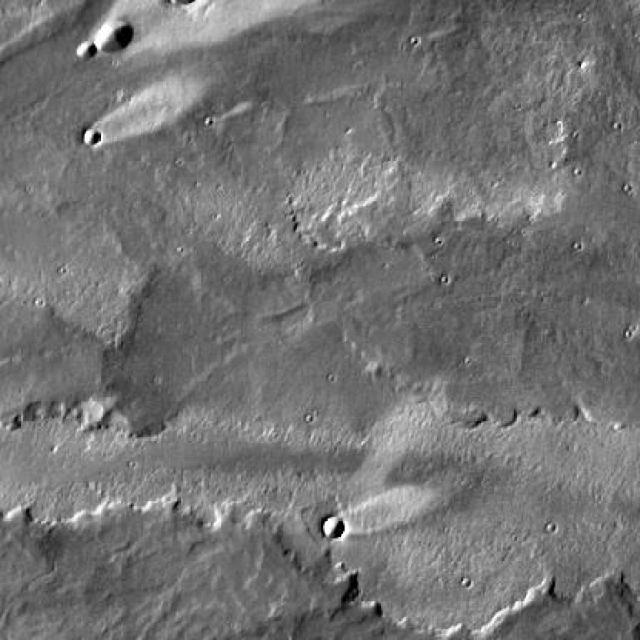crater: (318, 519, 338, 539), (84, 137, 101, 152)
